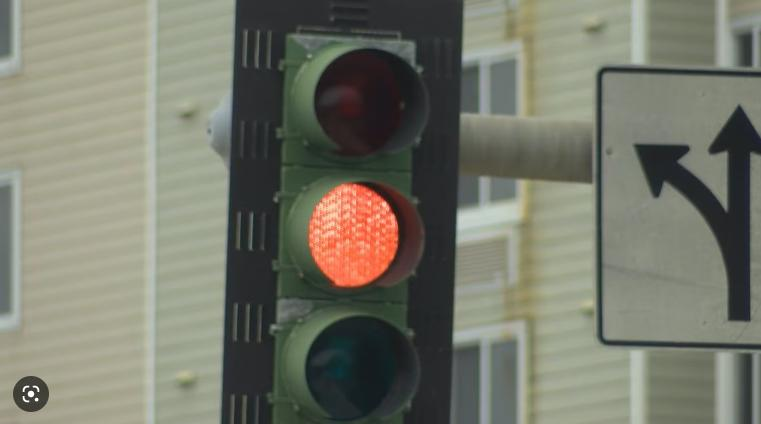yellow_light: (221, 1, 465, 424)
